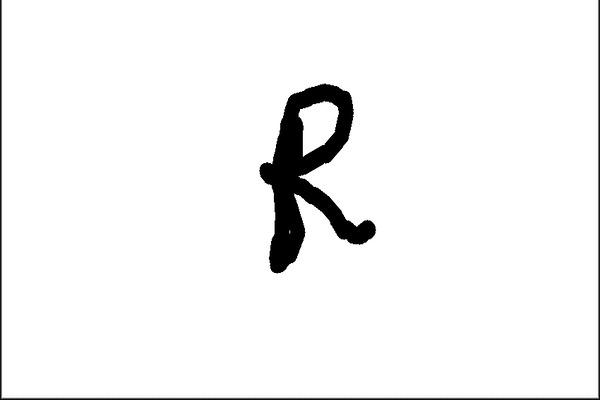R: (256, 80, 384, 276)
